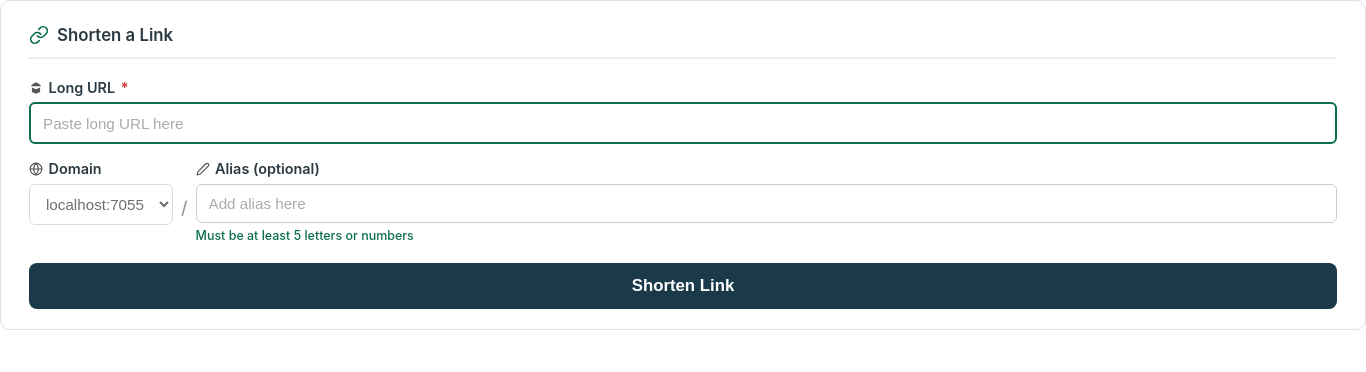
Test: UrlShortenerForm › shows error when alias contains non-alphanumeric characters
In the field labelled "Long URL *": (683, 123) [29,102,1337,144], type "https://example.com"
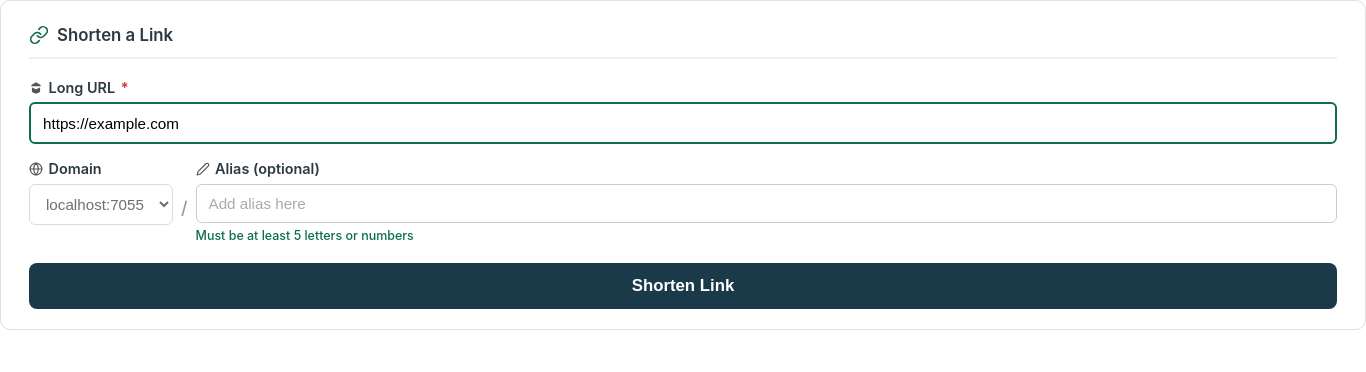
In the field labelled "Alias (optional)": (766, 204) [196,184,1337,223], type "abcd%"
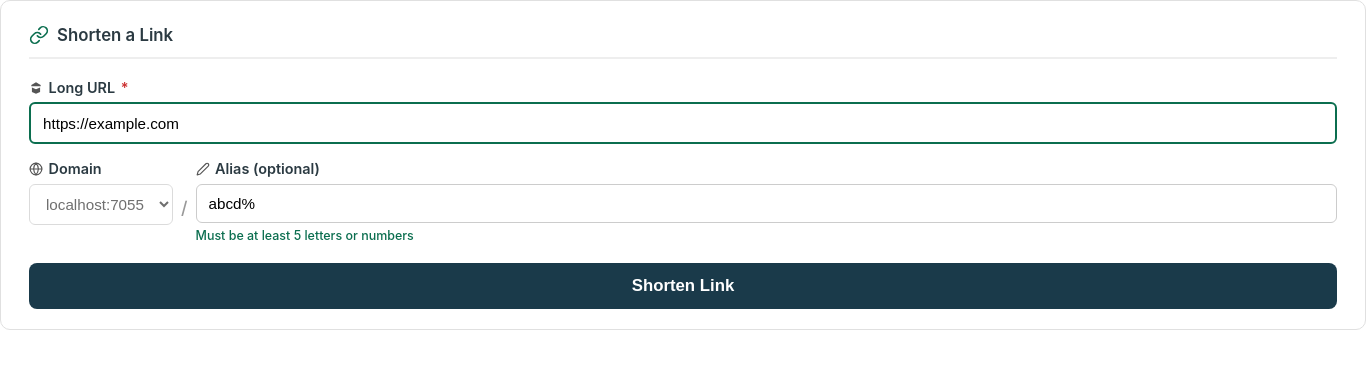
Click the button "Shorten Link": click(683, 286) [29,263,1337,309]
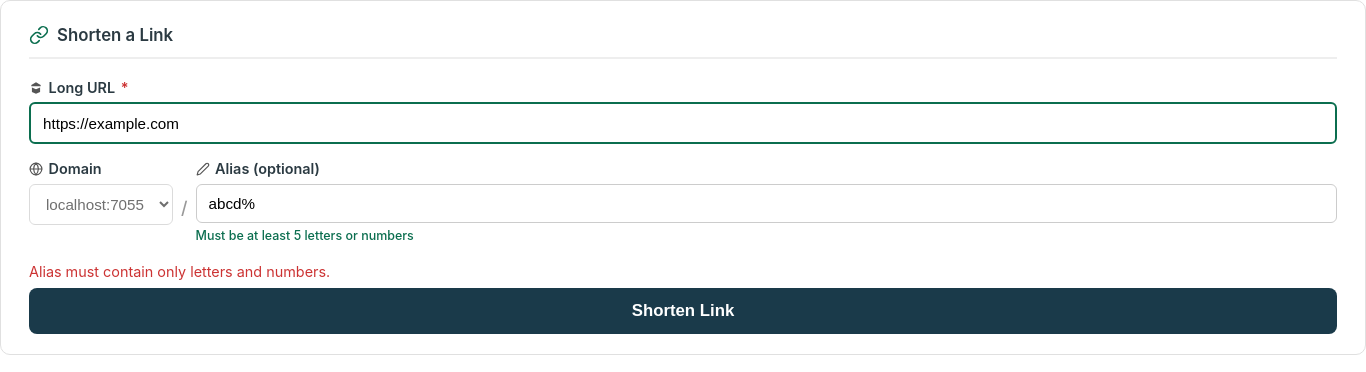
Now the text "Alias must contain only letters and numbers." is shown, box [29,263,330,280]
